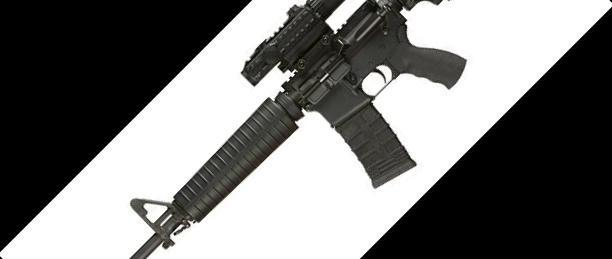larga: (130, 0, 466, 259)
